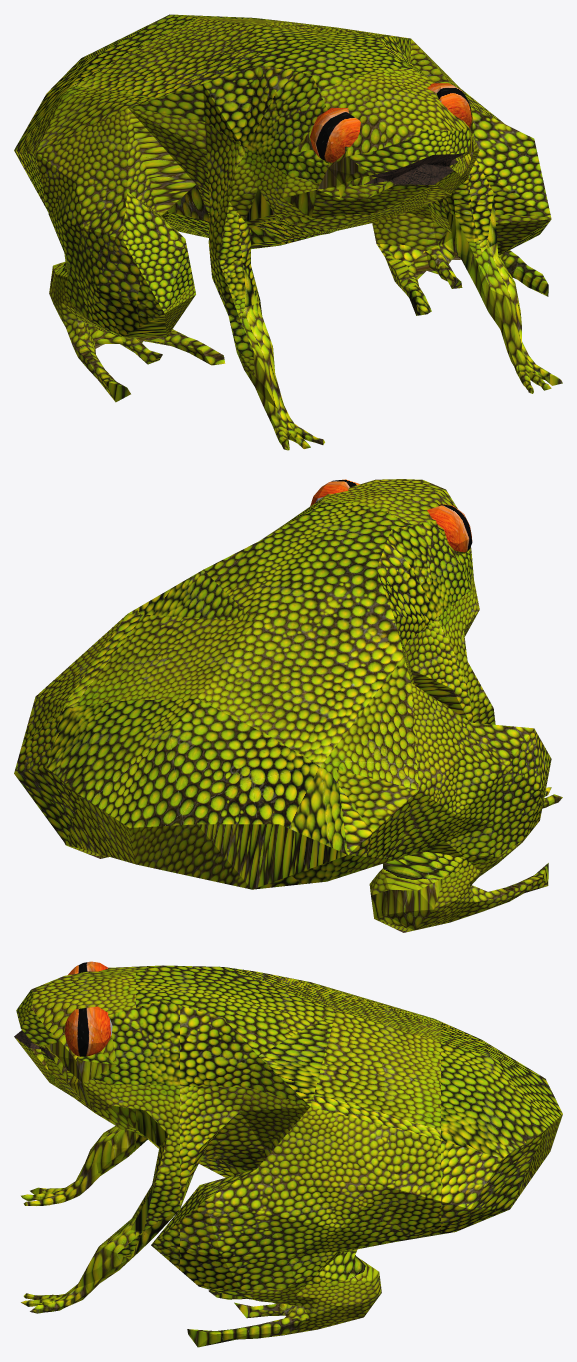
Rendered from Frog_model.fbx.
The picture shows the model from 3 angles, top to bottom: view 1: azimuth 30°, elevation 25°; view 2: azimuth 150°, elevation 25°; view 3: azimuth 270°, elevation 25°; orthographic projection. The views are drawn at different scales.
Visible parts, largest first — view 1: frog3:Mesh; view 2: frog3:Mesh; view 3: frog3:Mesh.
Part boxes in pixels (x1,y1,x2,y2): frog3:Mesh: (14, 14, 562, 450); frog3:Mesh: (14, 479, 562, 932); frog3:Mesh: (14, 961, 562, 1347).
Size of the model in its own units: 3.98 by 2.63 by 4.74.
Materials: 4 (3 with a texture image).
